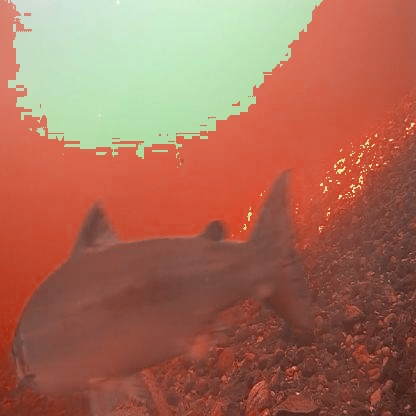salmon: (6, 163, 324, 411)
